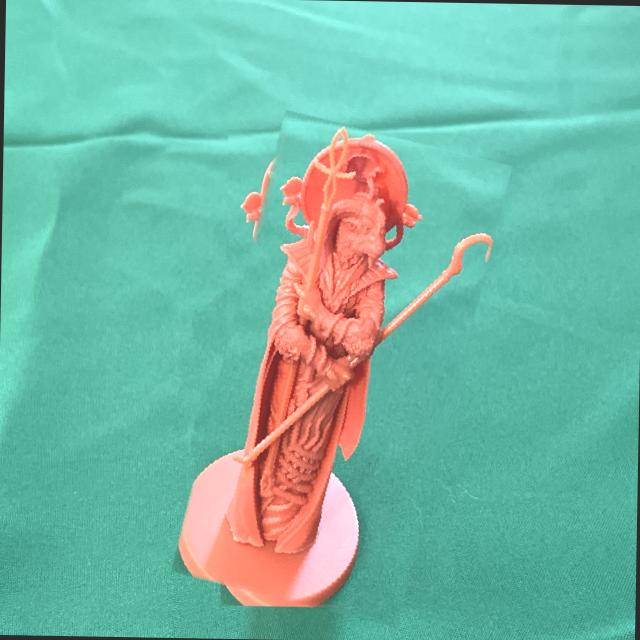amon: (194, 118, 487, 620)
